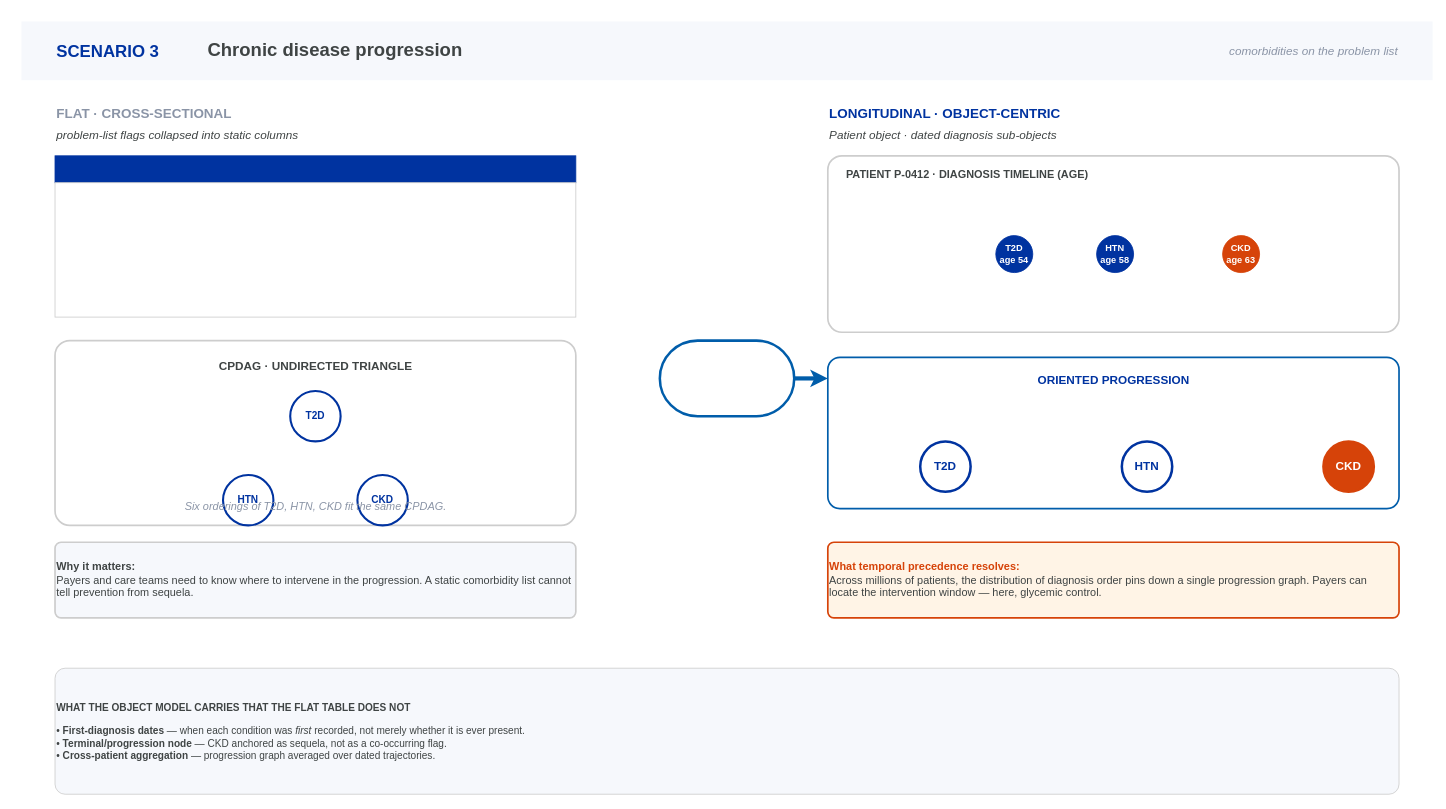
The diagram is 1446 pixels wide and 809 high, and some of its shapes have lost their labels. The shapes that lost their labels are listed below. From the top down, each one's box as (x1, y1, x2, y2) in pixels, then its label:
(54, 155, 576, 183): patient_id | T2D | HTN | CKD
(54, 182, 576, 317): P-0412 1 1 1 P-0528 0 1 0 P-0671 1 1 0 P-0744 1 0 0 P-0859 1 1 1 · · ·
(658, 339, 795, 417): diagnosis dates
